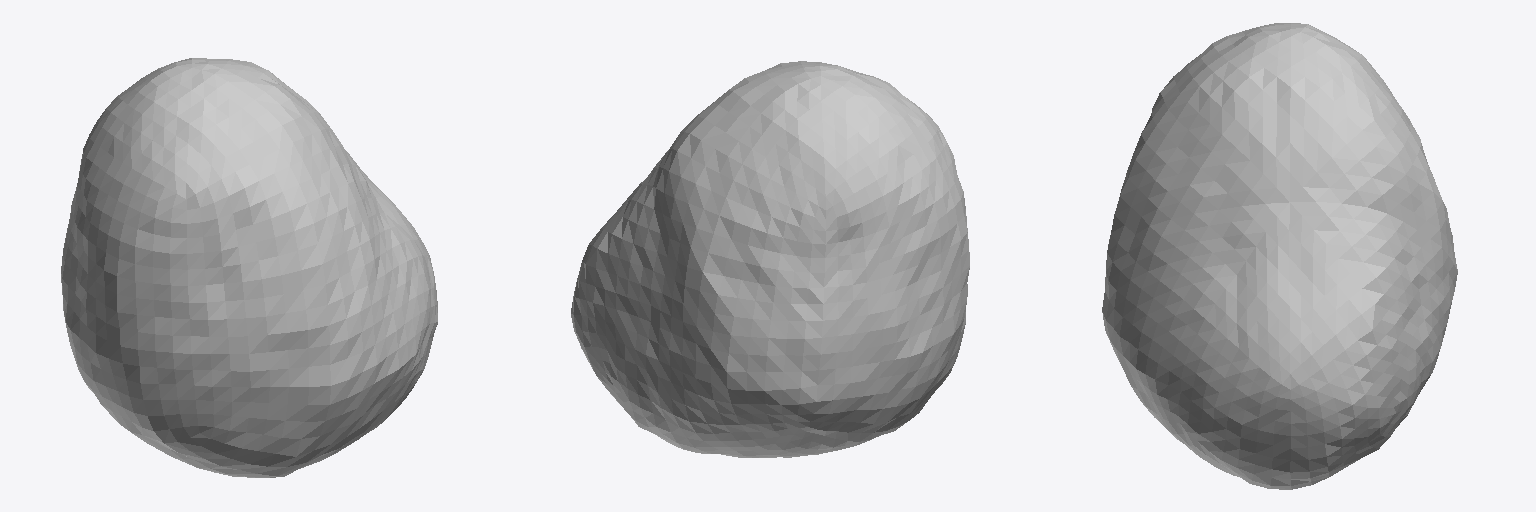
The model's file is rock.obj.
3 views of the same model, side by side, from view 1: azimuth 30°, elevation 25°; view 2: azimuth 150°, elevation 25°; view 3: azimuth 270°, elevation 25° (orthographic).
Parts seen in each view (by area): view 1: rock; view 2: rock; view 3: rock.
Boxes of the visible parts, x1=… form: rock: x1=61, y1=58, x2=437, y2=477; rock: x1=571, y1=61, x2=969, y2=457; rock: x1=1102, y1=23, x2=1457, y2=489.
Size of the model in its own units: 0.9493 by 1.04 by 0.8455.